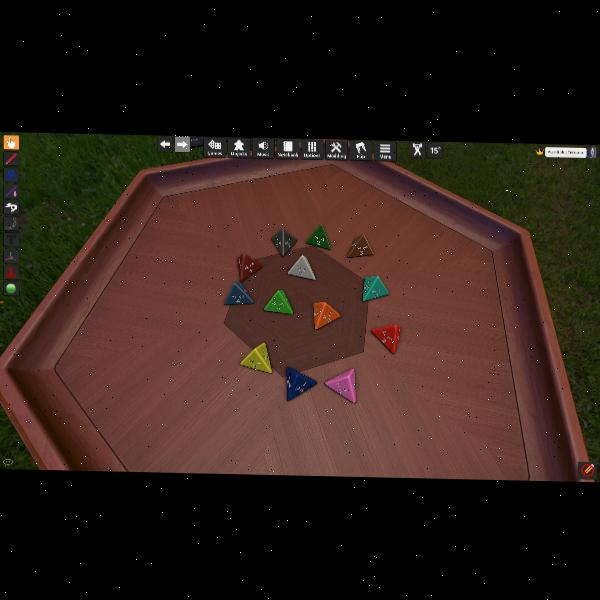d4: (325, 367, 357, 402), (286, 366, 316, 401), (240, 341, 272, 372), (371, 323, 400, 352), (312, 301, 340, 330), (272, 227, 298, 256), (236, 253, 262, 282), (264, 290, 294, 315), (224, 281, 254, 306), (287, 254, 315, 280), (362, 275, 388, 302), (306, 224, 330, 250), (347, 233, 373, 257)
